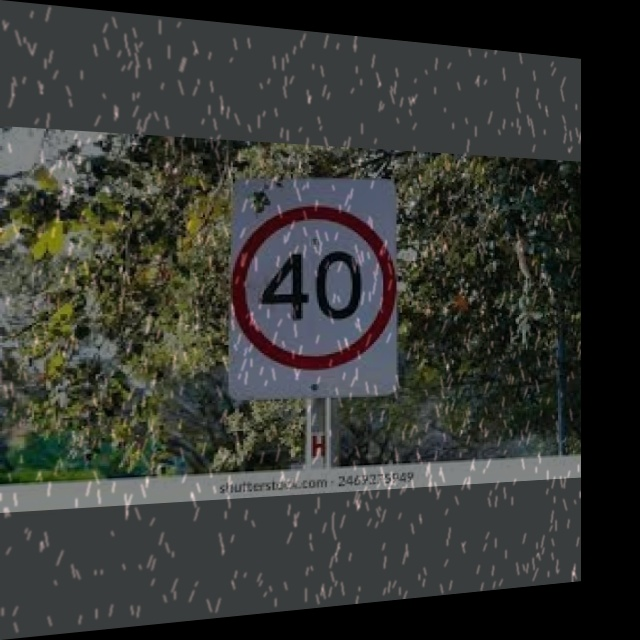Speed_Limit_40: (225, 202, 401, 374)
